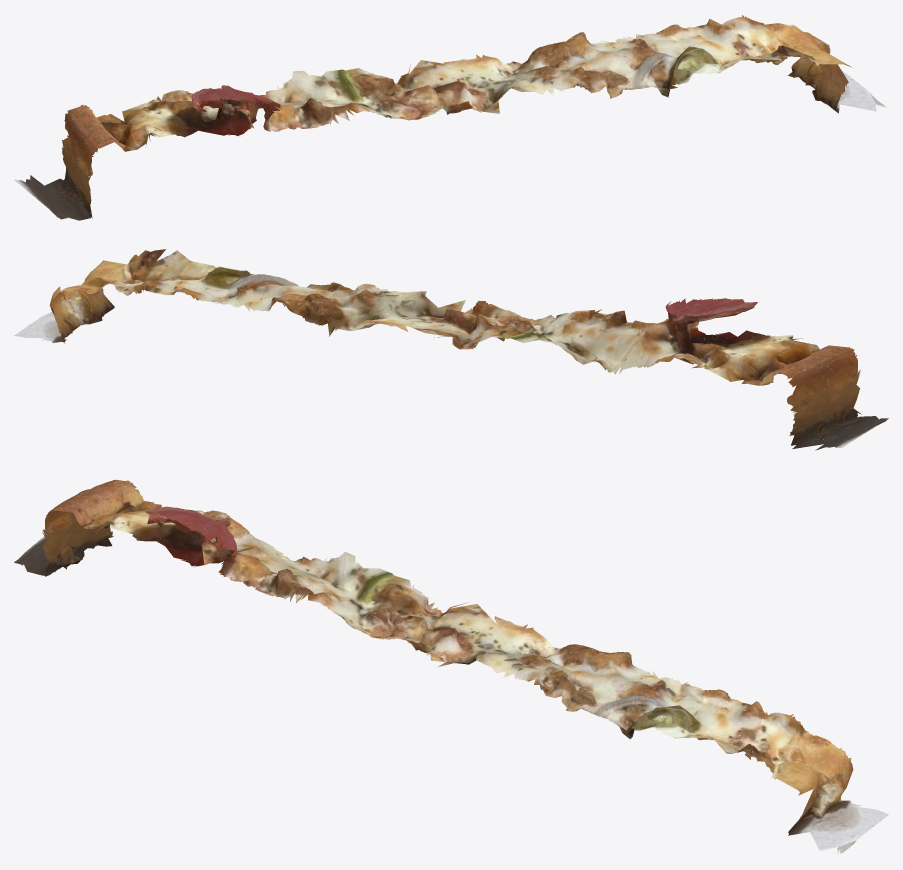
File: pizza_top_draco.glb
3 views of the same model, one above another, from view 1: azimuth 30°, elevation 25°; view 2: azimuth 150°, elevation 25°; view 3: azimuth 330°, elevation 25° (orthographic).
Parts seen in each view (by area): view 1: Object_11.001, Object_10.001, Object_8.001, Object_5.001, Object_12.001, Object_2.001, Object_3.001, Object_7.001; view 2: Object_11.001, Object_8.001, Object_10.001, Object_5.001, Object_2.001, Object_12.001, Object_3.001, Object_9.001; view 3: Object_11.001, Object_10.001, Object_8.001, Object_5.001, Object_12.001, Object_2.001, Object_3.001.
Boxes of the visible parts, x1,y1,x2,y2 form: Object_11.001: (170,17,816,134); Object_10.001: (172,58,570,128); Object_8.001: (18,88,300,220); Object_5.001: (501,23,886,113); Object_12.001: (492,26,818,98); Object_2.001: (14,15,827,189); Object_3.001: (458,33,715,90); Object_7.001: (87,101,201,191); Object_11.001: (98,249,729,371); Object_8.001: (655,298,888,450); Object_10.001: (372,286,715,366); Object_5.001: (15,260,406,343); Object_2.001: (14,280,857,447); Object_12.001: (89,255,406,330); Object_3.001: (169,281,425,326); Object_9.001: (30,291,887,444); Object_11.001: (173,509,806,778); Object_10.001: (187,513,533,680); Object_8.001: (14,479,259,587); Object_5.001: (496,643,887,853); Object_12.001: (492,634,813,779); Object_2.001: (45,480,888,815); Object_3.001: (477,621,733,720).
Size of the model in its own units: 0.3192 by 0.0636 by 0.0415.
Materials: 1 (1 with a texture image).
